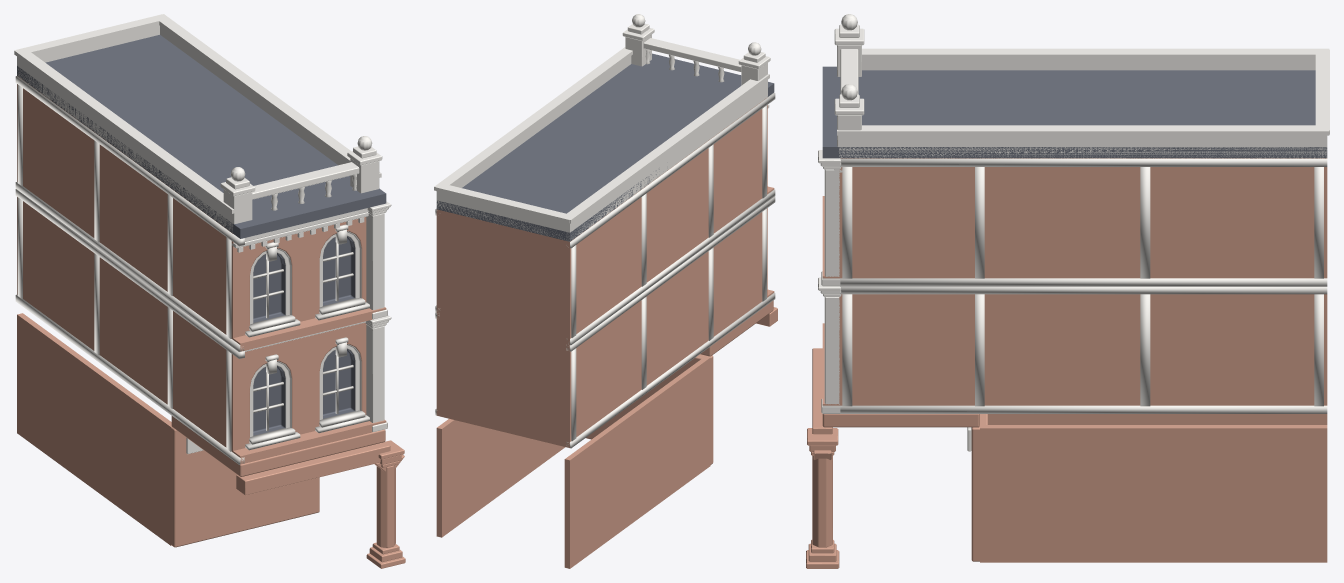
The model's file is dihua-yang.glb.
3 renders of one model, left to right at view 1: azimuth 30°, elevation 25°; view 2: azimuth 150°, elevation 25°; view 3: azimuth 270°, elevation 25°, orthographic. The views are drawn at different scales.
Visible parts, largest first — view 1: main, crest, storey; view 2: main, crest, storey; view 3: main, storey, crest.
Boxes of the visible parts, bbox=[...] form: main: bbox=[15, 189, 405, 568]; crest: bbox=[14, 14, 386, 252]; storey: bbox=[15, 76, 391, 351]; main: bbox=[435, 196, 777, 568]; crest: bbox=[434, 14, 774, 241]; storey: bbox=[435, 92, 775, 345]; main: bbox=[806, 277, 1327, 568]; storey: bbox=[818, 150, 1327, 286]; crest: bbox=[822, 14, 1329, 172].
Size of the model in its own units: 5.14 by 12.61 by 12.66.
